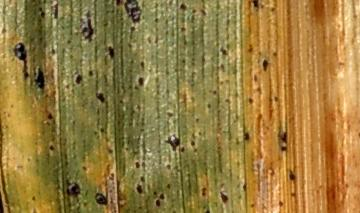tarspot: (14, 43, 28, 77), (125, 1, 141, 22), (82, 16, 94, 41), (34, 66, 45, 90), (94, 190, 109, 206), (165, 134, 179, 150), (67, 182, 79, 198), (107, 45, 116, 59), (219, 192, 229, 203), (95, 92, 105, 102), (280, 132, 289, 143), (262, 58, 269, 72), (52, 3, 59, 15), (165, 180, 172, 192), (178, 2, 187, 11), (75, 73, 81, 85), (133, 160, 141, 169), (136, 185, 144, 194), (201, 188, 207, 200), (254, 1, 261, 11), (138, 76, 144, 87), (47, 113, 55, 121), (211, 88, 219, 96), (49, 47, 57, 55), (289, 173, 296, 182), (108, 146, 115, 155), (127, 26, 136, 33), (87, 68, 93, 78), (139, 172, 145, 182), (155, 198, 161, 208), (139, 59, 145, 69), (221, 48, 228, 56), (180, 25, 187, 33), (152, 16, 160, 23), (243, 131, 248, 142), (49, 144, 55, 153), (190, 138, 196, 147), (201, 6, 207, 15), (80, 166, 88, 172), (194, 116, 200, 124), (165, 163, 171, 171), (116, 1, 123, 7), (281, 145, 287, 152), (30, 195, 37, 201), (278, 201, 284, 208), (37, 4, 42, 12), (160, 191, 164, 201), (207, 102, 212, 110), (152, 189, 158, 195), (99, 127, 105, 133), (248, 97, 253, 104), (191, 8, 198, 13), (40, 12, 46, 17), (205, 208, 210, 213), (181, 147, 186, 152)
